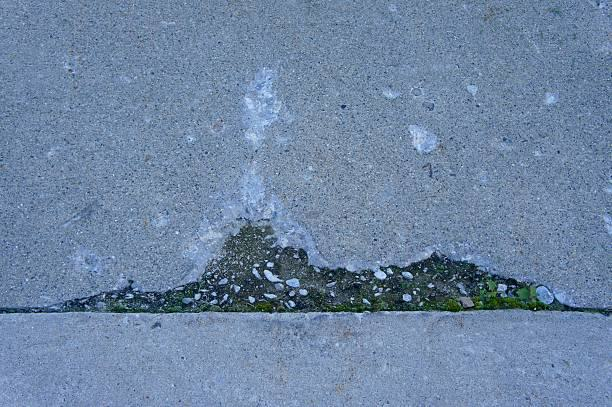Spalling: (33, 218, 567, 312)
